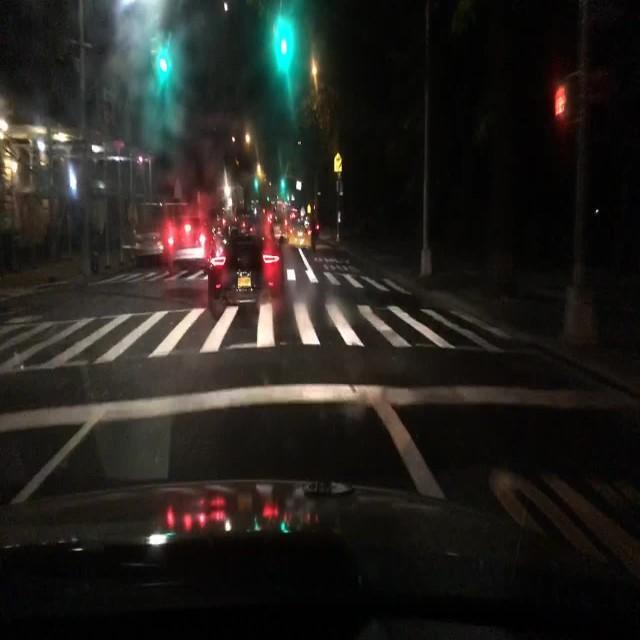normal: (132, 194, 312, 329)
